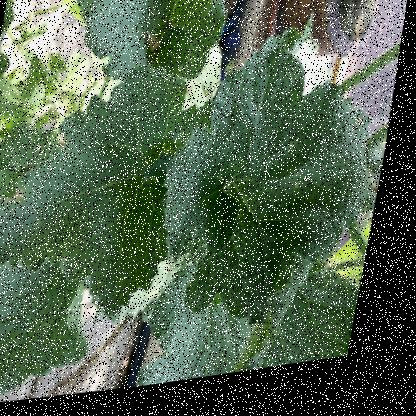Normal: (164, 92, 383, 307), (0, 82, 193, 277), (0, 236, 118, 397), (84, 0, 224, 83)
